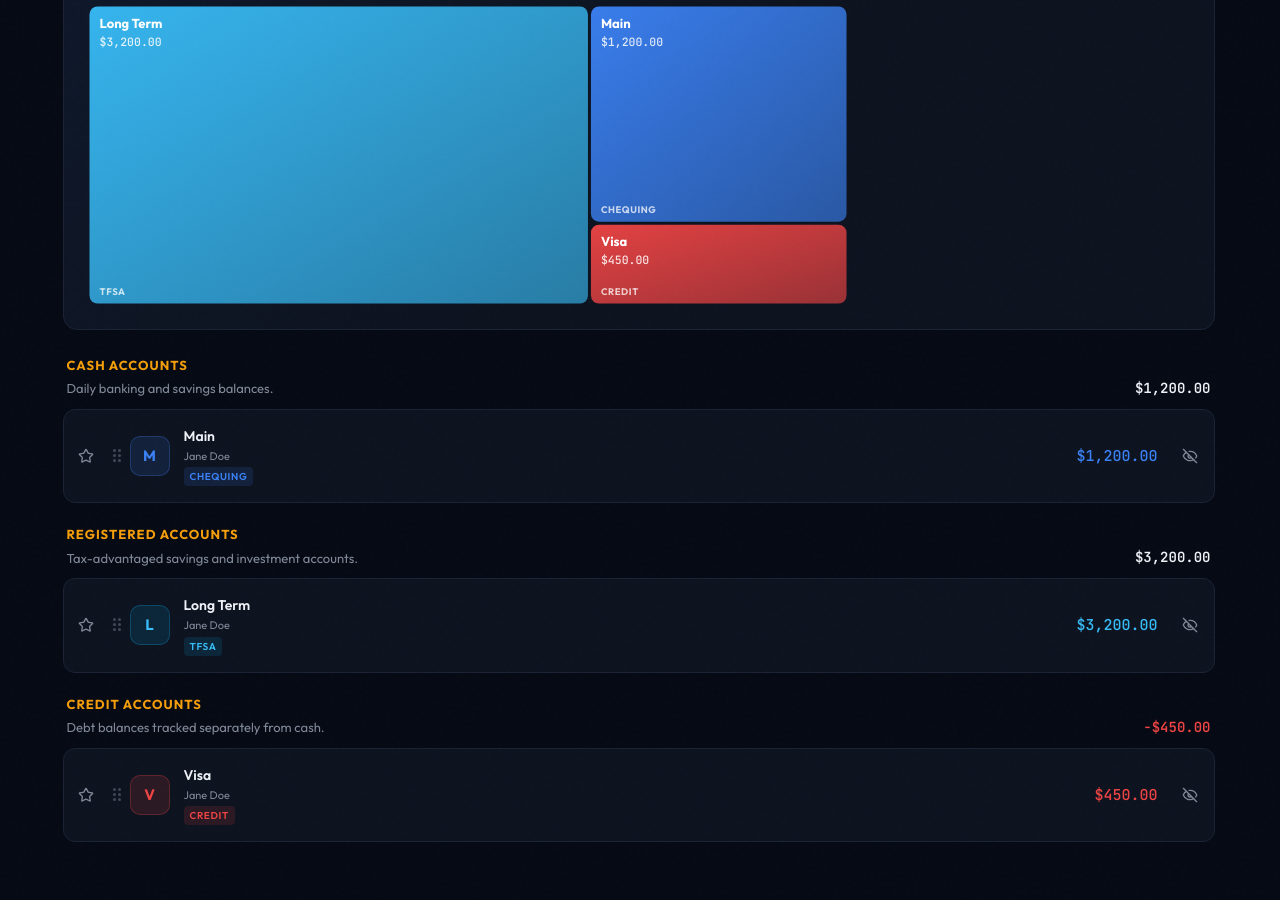
Scenario: accounts page › hides an account and offers to reveal it again
The width and height of the screenshot is (1280, 900).
(page scrolled)
Expected: the text "Cash Accounts" is shown, x1=66 y1=356 x2=188 y2=372
Expected: the text "Main" is shown, x1=600 y1=14 x2=630 y2=30
Click the 1st button named "Hide account". click: (1190, 456)
box: x1=1166 y1=410 x2=1214 y2=502
(page scrolled)
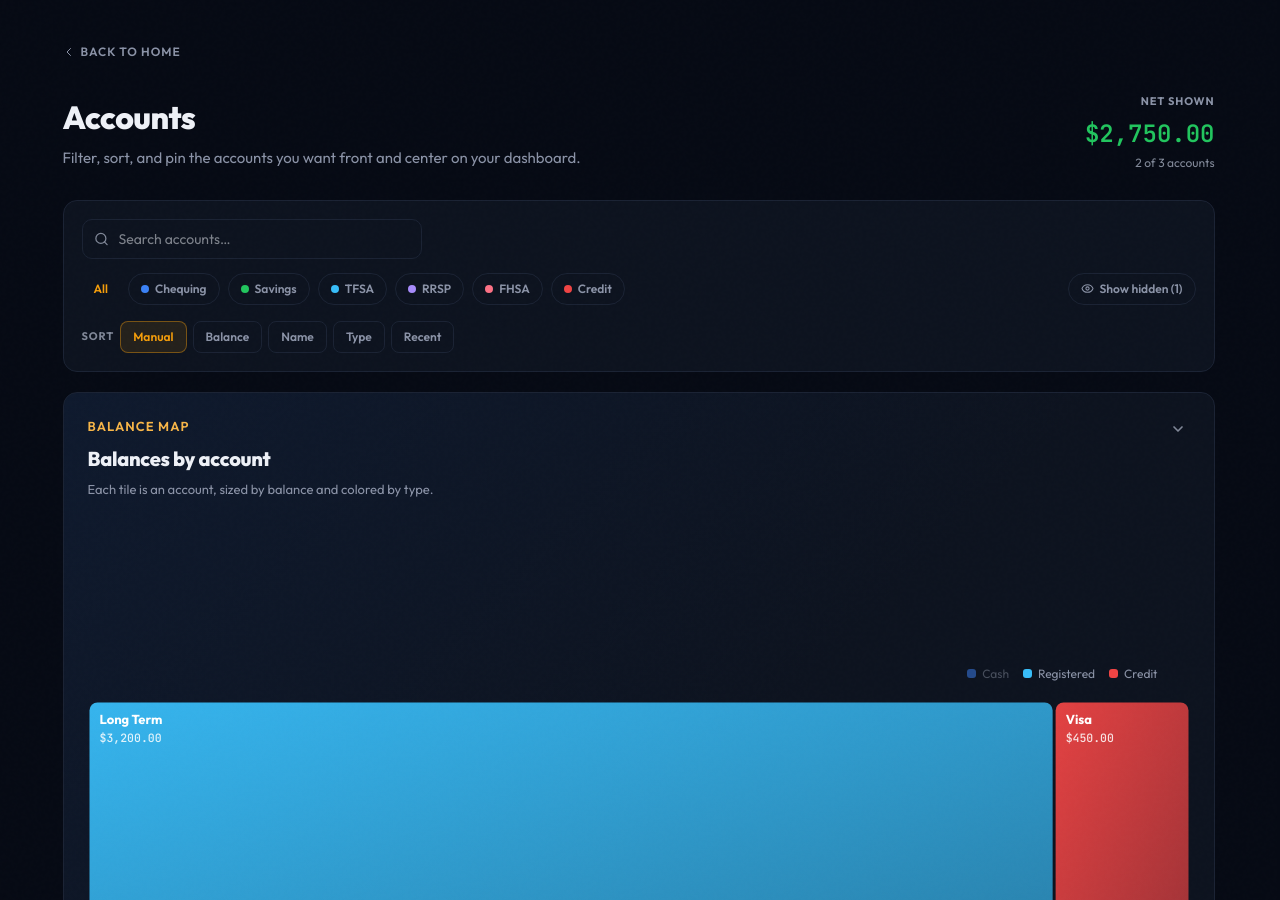
Expected: the picture "Main" is gone
Expected: the button "Show hidden (1)" is shown, x1=1068 y1=272 x2=1196 y2=304
